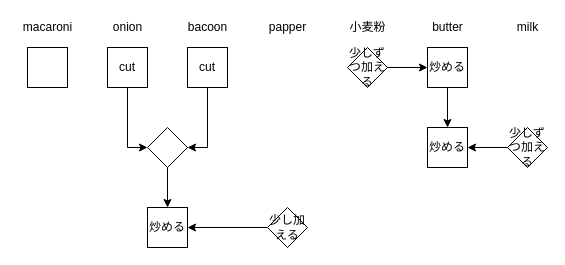
This 565x265 diagram has some shape labels left out. The shapes that lost their labels are listed below. From the top down, each one's centre as x and y in pixels, then its label:
the point at 47,67: boil
the point at 167,147: assy
